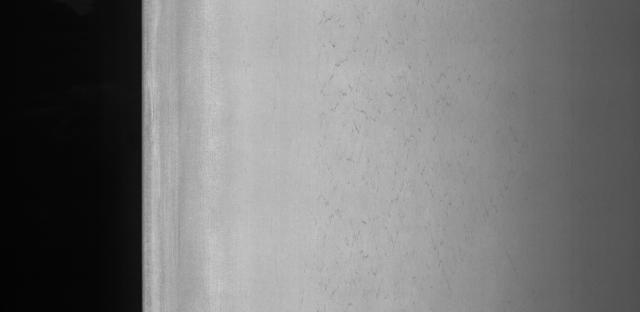silk_spot: (308, 5, 493, 301)
